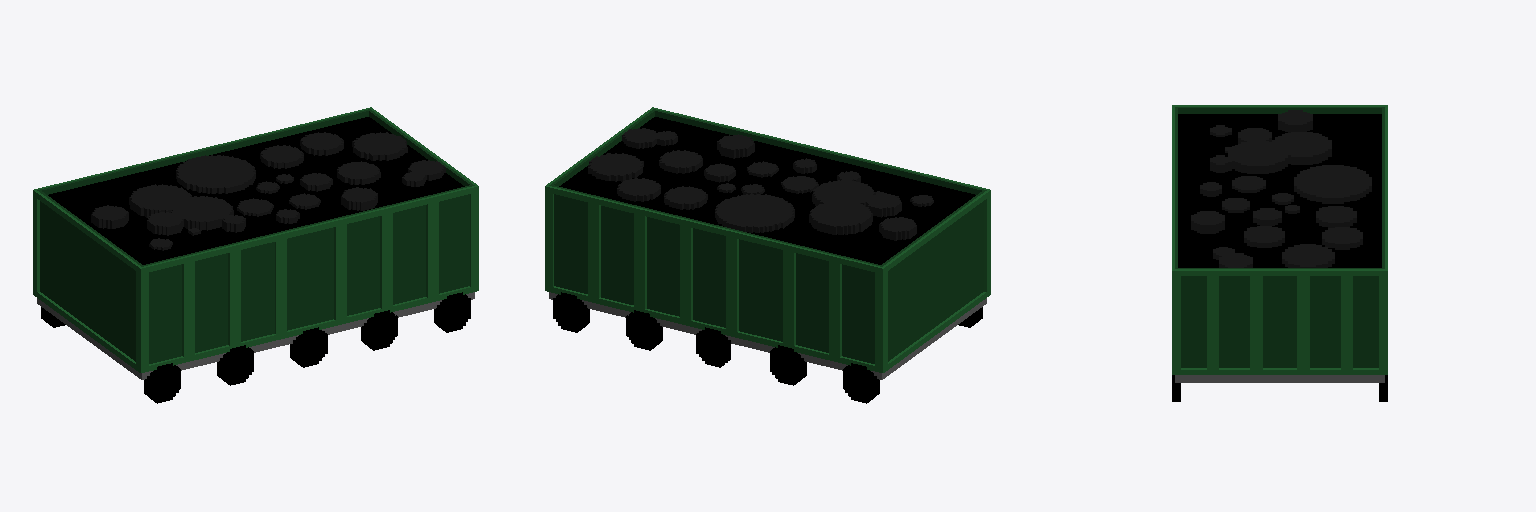
3 views of the same model, side by side, from view 1: azimuth 30°, elevation 25°; view 2: azimuth 150°, elevation 25°; view 3: azimuth 270°, elevation 25° (orthographic).
Visible parts, largest first — view 1: object 1; view 2: object 1; view 3: object 1.
Boxes of the visible parts, x1,y1,x2,y2 form: object 1: [33, 107, 478, 403]; object 1: [545, 107, 990, 403]; object 1: [1172, 105, 1387, 401].
Size of the model in its own units: 12.5 by 5 by 6.9.
1 materials, 1 textured.